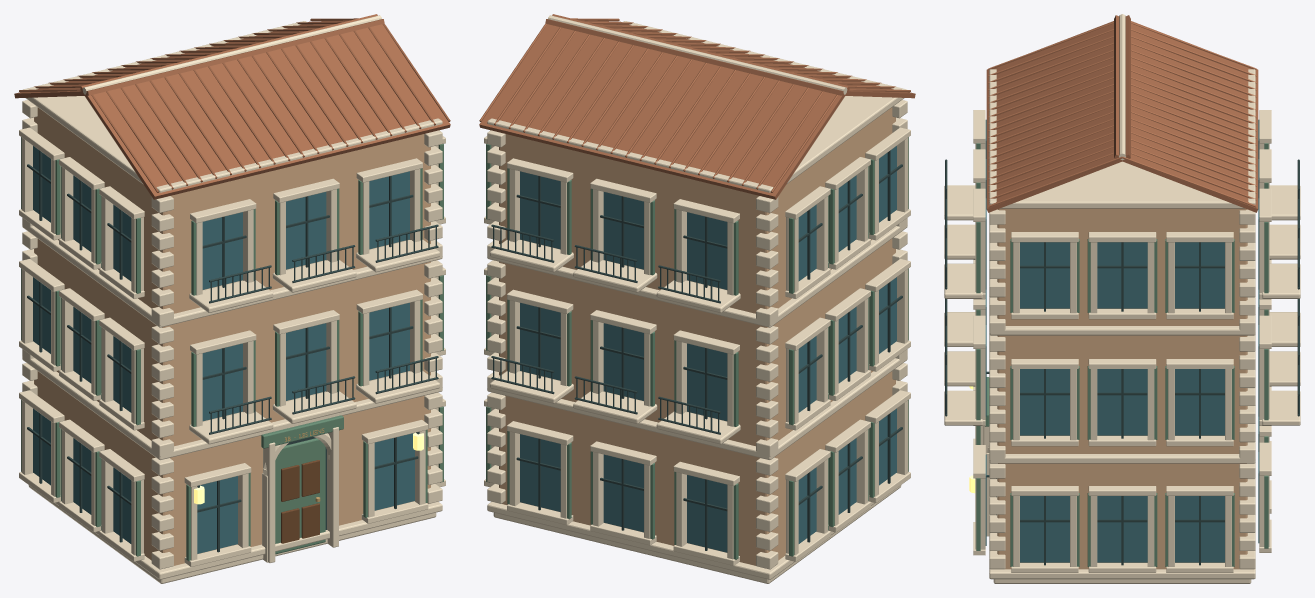
Rendered from italie-3.glb.
3 renders of one model, left to right at view 1: azimuth 30°, elevation 25°; view 2: azimuth 150°, elevation 25°; view 3: azimuth 270°, elevation 25°, orthographic. The views are drawn at different scales.
Parts seen in each view (by area): view 1: italie-3_Dressed stone, italie-3_Masonry plaster, italie-3_Regional roof, italie-3_Window blue, italie-3_Regional painted wood, italie-3_Forged midnight, italie-3_Walnut; view 2: italie-3_Dressed stone, italie-3_Masonry plaster, italie-3_Regional roof, italie-3_Window blue, italie-3_Forged midnight, italie-3_Regional painted wood; view 3: italie-3_Dressed stone, italie-3_Regional roof, italie-3_Window blue, italie-3_Masonry plaster, italie-3_Regional painted wood, italie-3_Forged midnight.
Boxes of the visible parts, x1=… form: italie-3_Dressed stone: x1=19, y1=15, x2=445, y2=583; italie-3_Masonry plaster: x1=34, y1=107, x2=430, y2=565; italie-3_Regional roof: x1=14, y1=14, x2=450, y2=199; italie-3_Window blue: x1=33, y1=146, x2=414, y2=553; italie-3_Regional painted wood: x1=21, y1=137, x2=443, y2=561; italie-3_Forged midnight: x1=27, y1=150, x2=438, y2=552; italie-3_Walnut: x1=281, y1=460, x2=319, y2=543; italie-3_Dressed stone: x1=484, y1=15, x2=910, y2=583; italie-3_Masonry plaster: x1=499, y1=107, x2=895, y2=565; italie-3_Regional roof: x1=479, y1=14, x2=915, y2=199; italie-3_Window blue: x1=520, y1=146, x2=896, y2=552; italie-3_Forged midnight: x1=491, y1=150, x2=902, y2=550; italie-3_Regional painted wood: x1=486, y1=137, x2=908, y2=559; italie-3_Dressed stone: x1=944, y1=14, x2=1300, y2=583; italie-3_Regional roof: x1=986, y1=15, x2=1258, y2=212; italie-3_Window blue: x1=985, y1=119, x2=1259, y2=562; italie-3_Masonry plaster: x1=997, y1=208, x2=1247, y2=569; italie-3_Regional painted wood: x1=976, y1=143, x2=1268, y2=566; italie-3_Forged midnight: x1=945, y1=159, x2=1299, y2=565.
Bounding box in the file's own units: 13.94 × 19.23 × 14.25.
